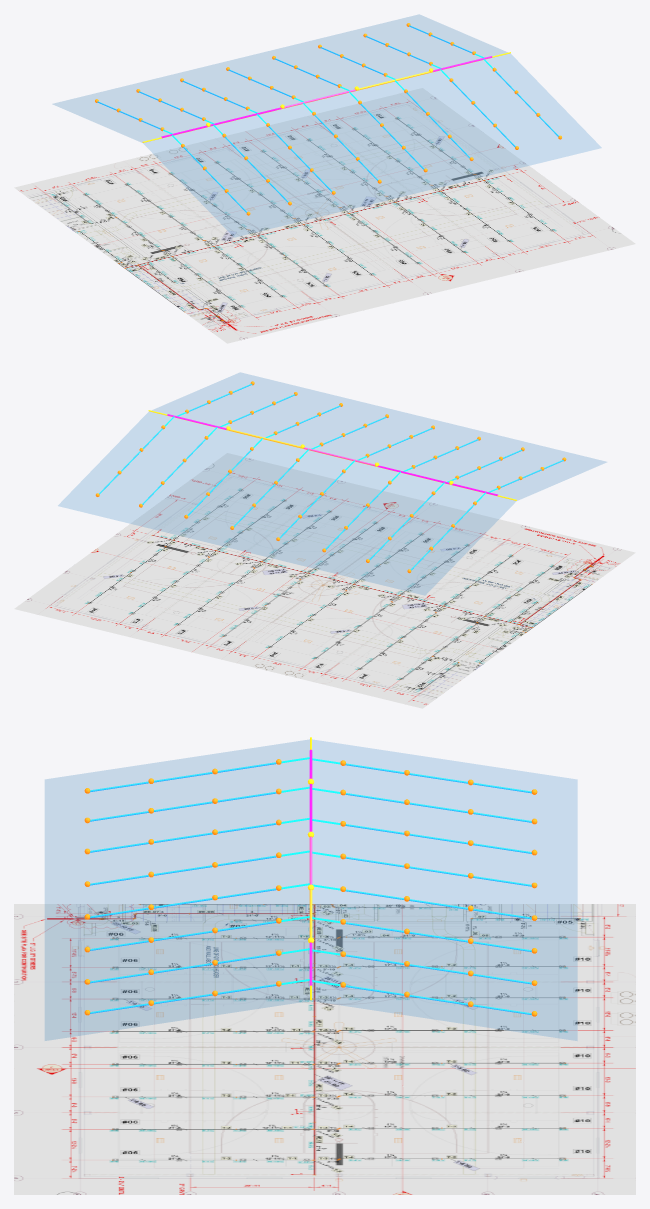
File: bgc-source-registered-3d.glb
3 renders of one model, top to bottom at view 1: azimuth 30°, elevation 25°; view 2: azimuth 150°, elevation 25°; view 3: azimuth 270°, elevation 25°, orthographic. The views are drawn at different scales.
Parts seen in each view (by area): view 1: ACTUAL_AS_BUILT_FP1_0_UNDERLAY, SOURCE_A301_ROOF_SURFACES; view 2: ACTUAL_AS_BUILT_FP1_0_UNDERLAY, SOURCE_A301_ROOF_SURFACES; view 3: ACTUAL_AS_BUILT_FP1_0_UNDERLAY, SOURCE_A301_ROOF_SURFACES.
Boxes of the visible parts, x1=… form: ACTUAL_AS_BUILT_FP1_0_UNDERLAY: x1=14, y1=88, x2=635, y2=343; SOURCE_A301_ROOF_SURFACES: x1=53, y1=14, x2=601, y2=237; ACTUAL_AS_BUILT_FP1_0_UNDERLAY: x1=14, y1=453, x2=635, y2=708; SOURCE_A301_ROOF_SURFACES: x1=58, y1=372, x2=606, y2=595; ACTUAL_AS_BUILT_FP1_0_UNDERLAY: x1=14, y1=904, x2=635, y2=1194; SOURCE_A301_ROOF_SURFACES: x1=45, y1=739, x2=577, y2=1040.
Size of the model in its own units: 116 by 34.11 by 104.
Materials: 11 (1 with a texture image).
